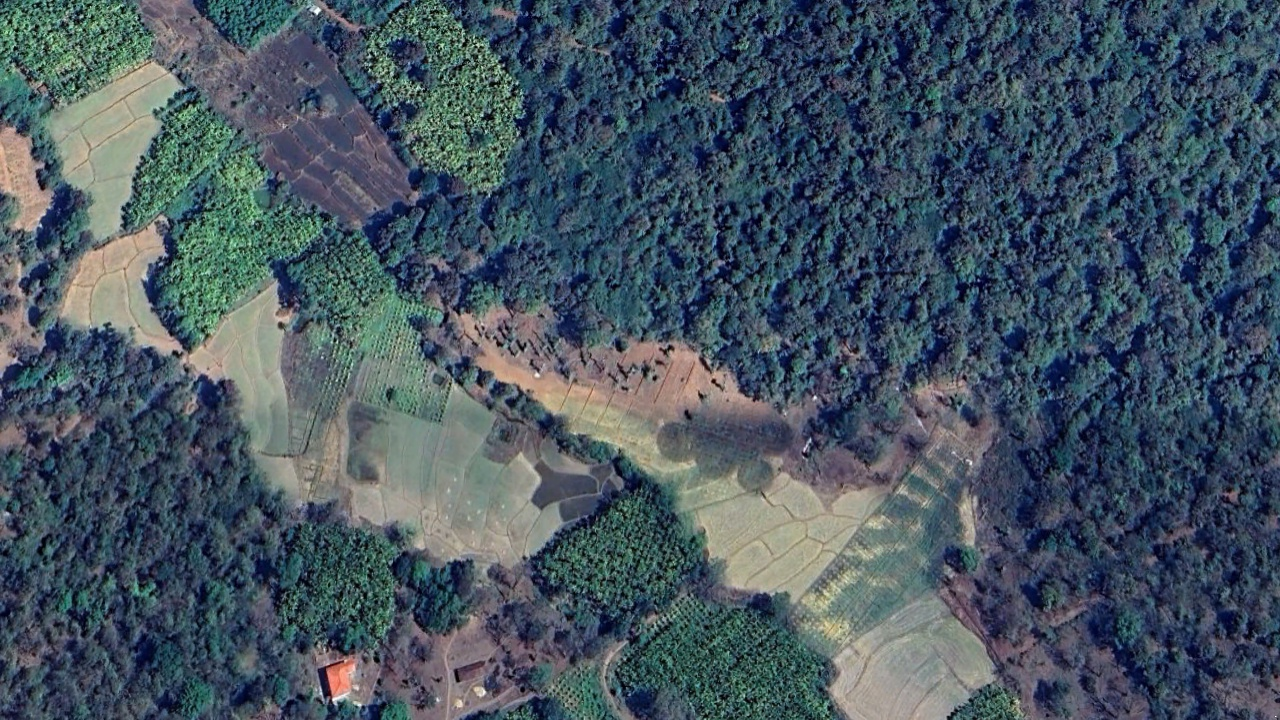arecanut: (356, 8, 535, 188), (177, 160, 308, 340), (627, 602, 826, 720), (534, 488, 710, 621), (3, 1, 161, 116), (292, 509, 408, 648), (316, 221, 393, 313)
